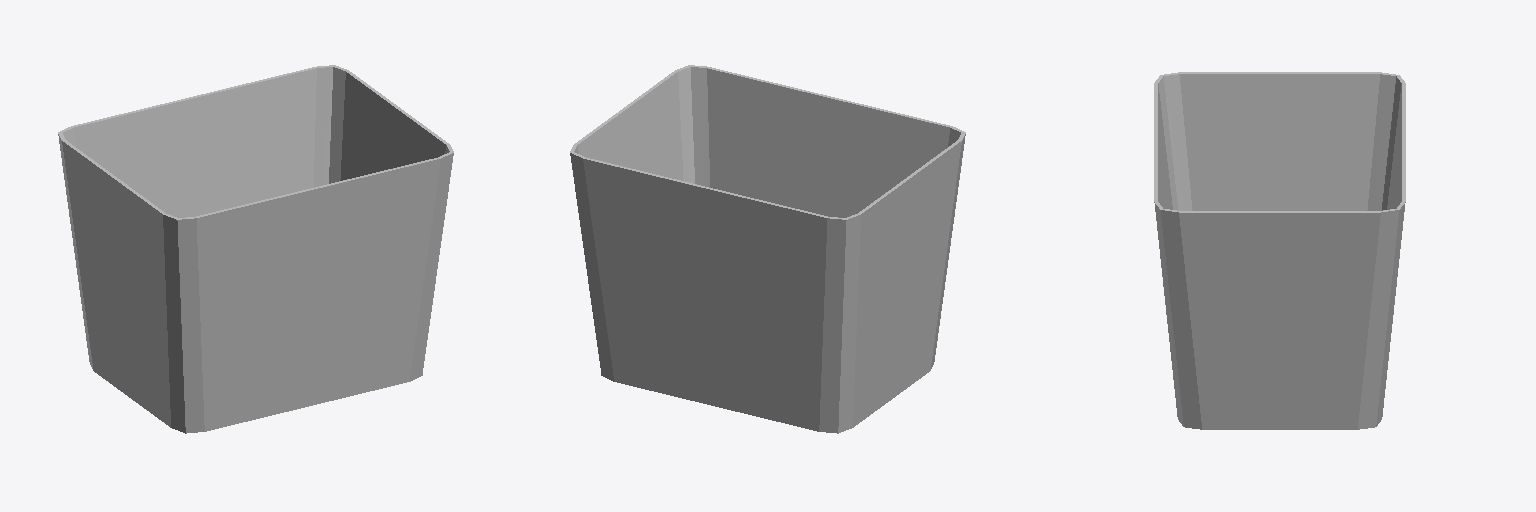
File: garaga_box_empty.obj
3 renders of one model, left to right at view 1: azimuth 30°, elevation 25°; view 2: azimuth 150°, elevation 25°; view 3: azimuth 270°, elevation 25°, orthographic.
Visible parts, largest first — view 1: SM_GarageBoxEmpty; view 2: SM_GarageBoxEmpty; view 3: SM_GarageBoxEmpty.
Part boxes in pixels (left/top/right/bottom): SM_GarageBoxEmpty: left=58, top=65, right=453, bottom=433; SM_GarageBoxEmpty: left=570, top=65, right=965, bottom=433; SM_GarageBoxEmpty: left=1154, top=72, right=1405, bottom=429.
Bounding box in the file's own units: 0.0046 × 0.0035 × 0.0035.